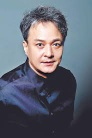male: (16, 7, 81, 82)
